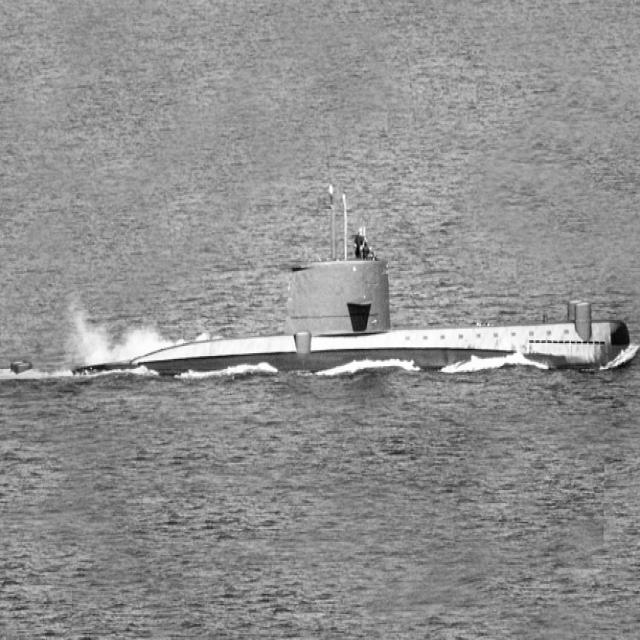submarine: (1, 256, 632, 380)
